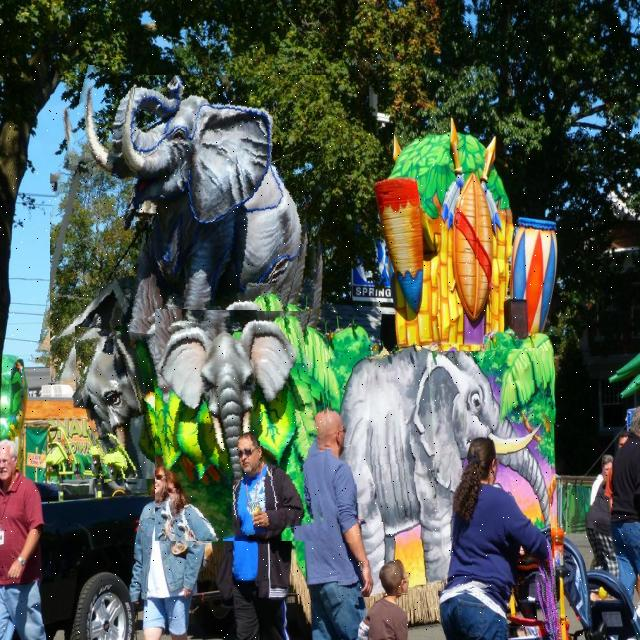elephant: (50, 75, 334, 384), (329, 351, 551, 596), (155, 309, 331, 541), (75, 326, 174, 479)
